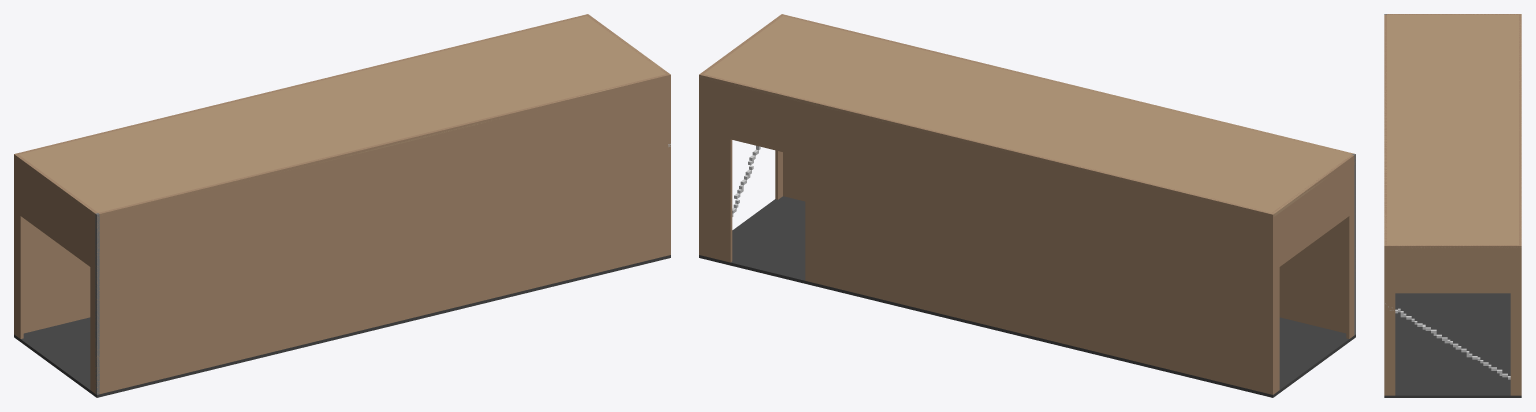
The model's file is Hall01.gltf.
3 renders of one model, left to right at view 1: azimuth 30°, elevation 25°; view 2: azimuth 150°, elevation 25°; view 3: azimuth 270°, elevation 25°, orthographic. The views are drawn at different scales.
Parts seen in each view (by area): view 1: Wall2, Roof, Wall0, Wall3, Floor, Wall1; view 2: Wall0, Roof, Floor, Wall2, Wall3, Wall1; view 3: Roof, Floor, Wall1, Wall0, Wall2.
Boxes of the visible parts, bbox=[...] form: Wall2: bbox=[95, 74, 667, 394]; Roof: bbox=[14, 14, 670, 215]; Wall0: bbox=[14, 14, 588, 335]; Wall3: bbox=[15, 154, 99, 394]; Floor: bbox=[14, 255, 670, 397]; Wall1: bbox=[587, 15, 670, 255]; Wall0: bbox=[699, 73, 1274, 394]; Roof: bbox=[700, 14, 1354, 216]; Floor: bbox=[699, 196, 1355, 397]; Wall2: bbox=[783, 15, 1355, 335]; Wall3: bbox=[1272, 155, 1355, 393]; Wall1: bbox=[701, 14, 783, 199]; Roof: bbox=[1384, 14, 1521, 379]; Floor: bbox=[1384, 293, 1521, 397]; Wall1: bbox=[1384, 245, 1518, 395]; Wall0: bbox=[1519, 14, 1521, 395]; Wall2: bbox=[1384, 14, 1386, 244].
Bounding box in the file's own units: 200 × 61 × 50.
